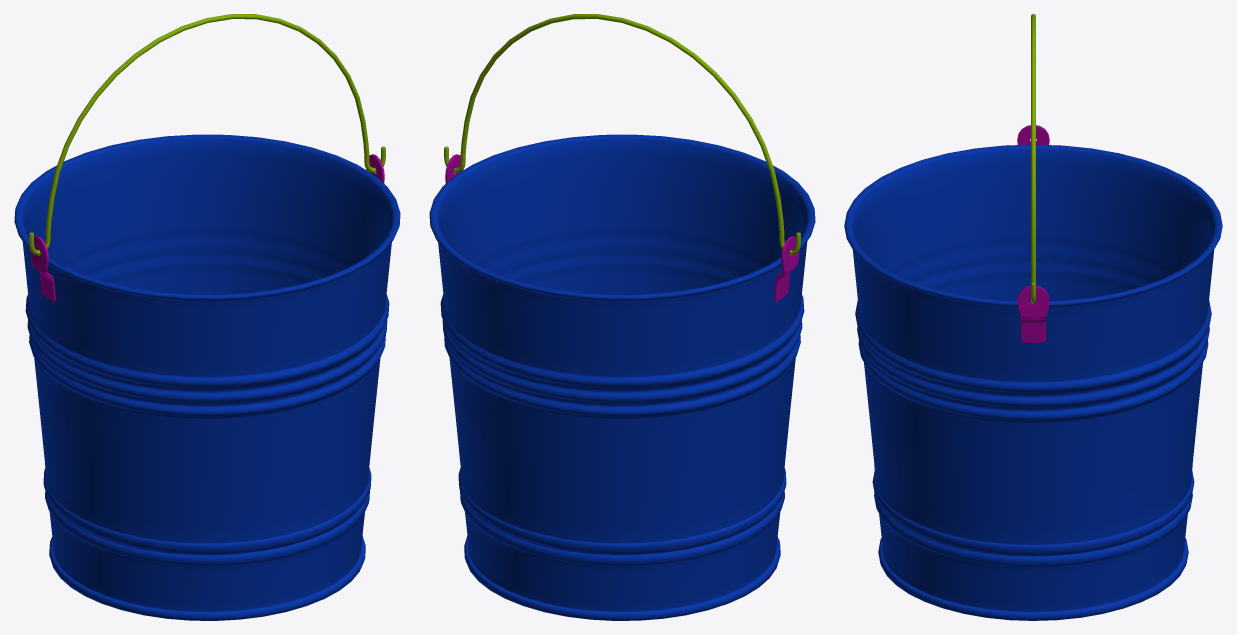
Rendered from clothBasket.fbx.
The picture shows the model from 3 angles, left to right: view 1: azimuth 30°, elevation 25°; view 2: azimuth 150°, elevation 25°; view 3: azimuth 270°, elevation 25°; orthographic projection. The views are drawn at different scales.
Parts seen in each view (by area): view 1: cubeta:pCylinder7, cubeta:pTorus1, cubeta:pTorus2; view 2: cubeta:pCylinder7, cubeta:pTorus1, cubeta:pTorus2; view 3: cubeta:pCylinder7, cubeta:pTorus3, cubeta:pTorus1.
Boxes of the visible parts, bbox=[...] form: cubeta:pCylinder7: bbox=[14, 134, 400, 620]; cubeta:pTorus1: bbox=[29, 14, 385, 255]; cubeta:pTorus2: bbox=[30, 236, 55, 301]; cubeta:pCylinder7: bbox=[429, 134, 815, 620]; cubeta:pTorus1: bbox=[444, 14, 800, 255]; cubeta:pTorus2: bbox=[774, 236, 799, 301]; cubeta:pCylinder7: bbox=[844, 144, 1222, 620]; cubeta:pTorus3: bbox=[1017, 285, 1049, 342]; cubeta:pTorus1: bbox=[1031, 14, 1035, 303].
Bounding box in the file's own units: 3.52 × 5.07 × 3.3.
